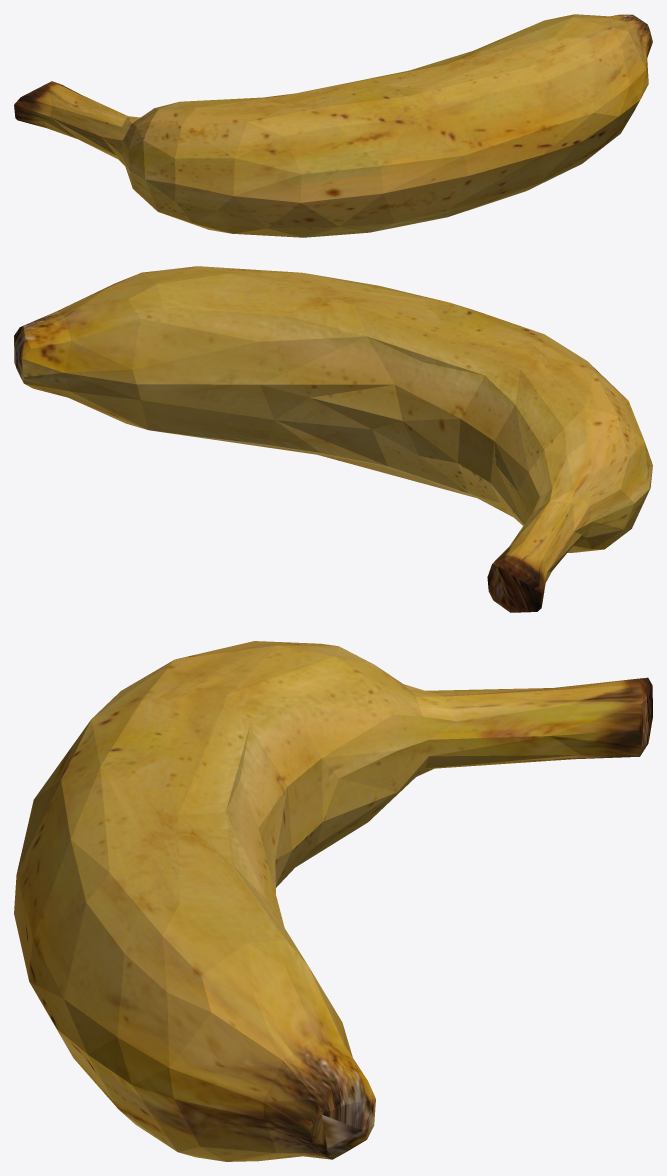
File: banaan.obj
3 renders of one model, top to bottom at view 1: azimuth 30°, elevation 25°; view 2: azimuth 150°, elevation 25°; view 3: azimuth 270°, elevation 25°, orthographic. The views are drawn at different scales.
Visible parts, largest first — view 1: Banana.002; view 2: Banana.002; view 3: Banana.002.
Part boxes in pixels (x1,y1,x2,y2): Banana.002: (14,14,652,237); Banana.002: (14,266,652,612); Banana.002: (14,641,652,1161).
Bounding box in the file's own units: 2.22 × 0.5182 × 1.32.
1 material, 1 textured.
